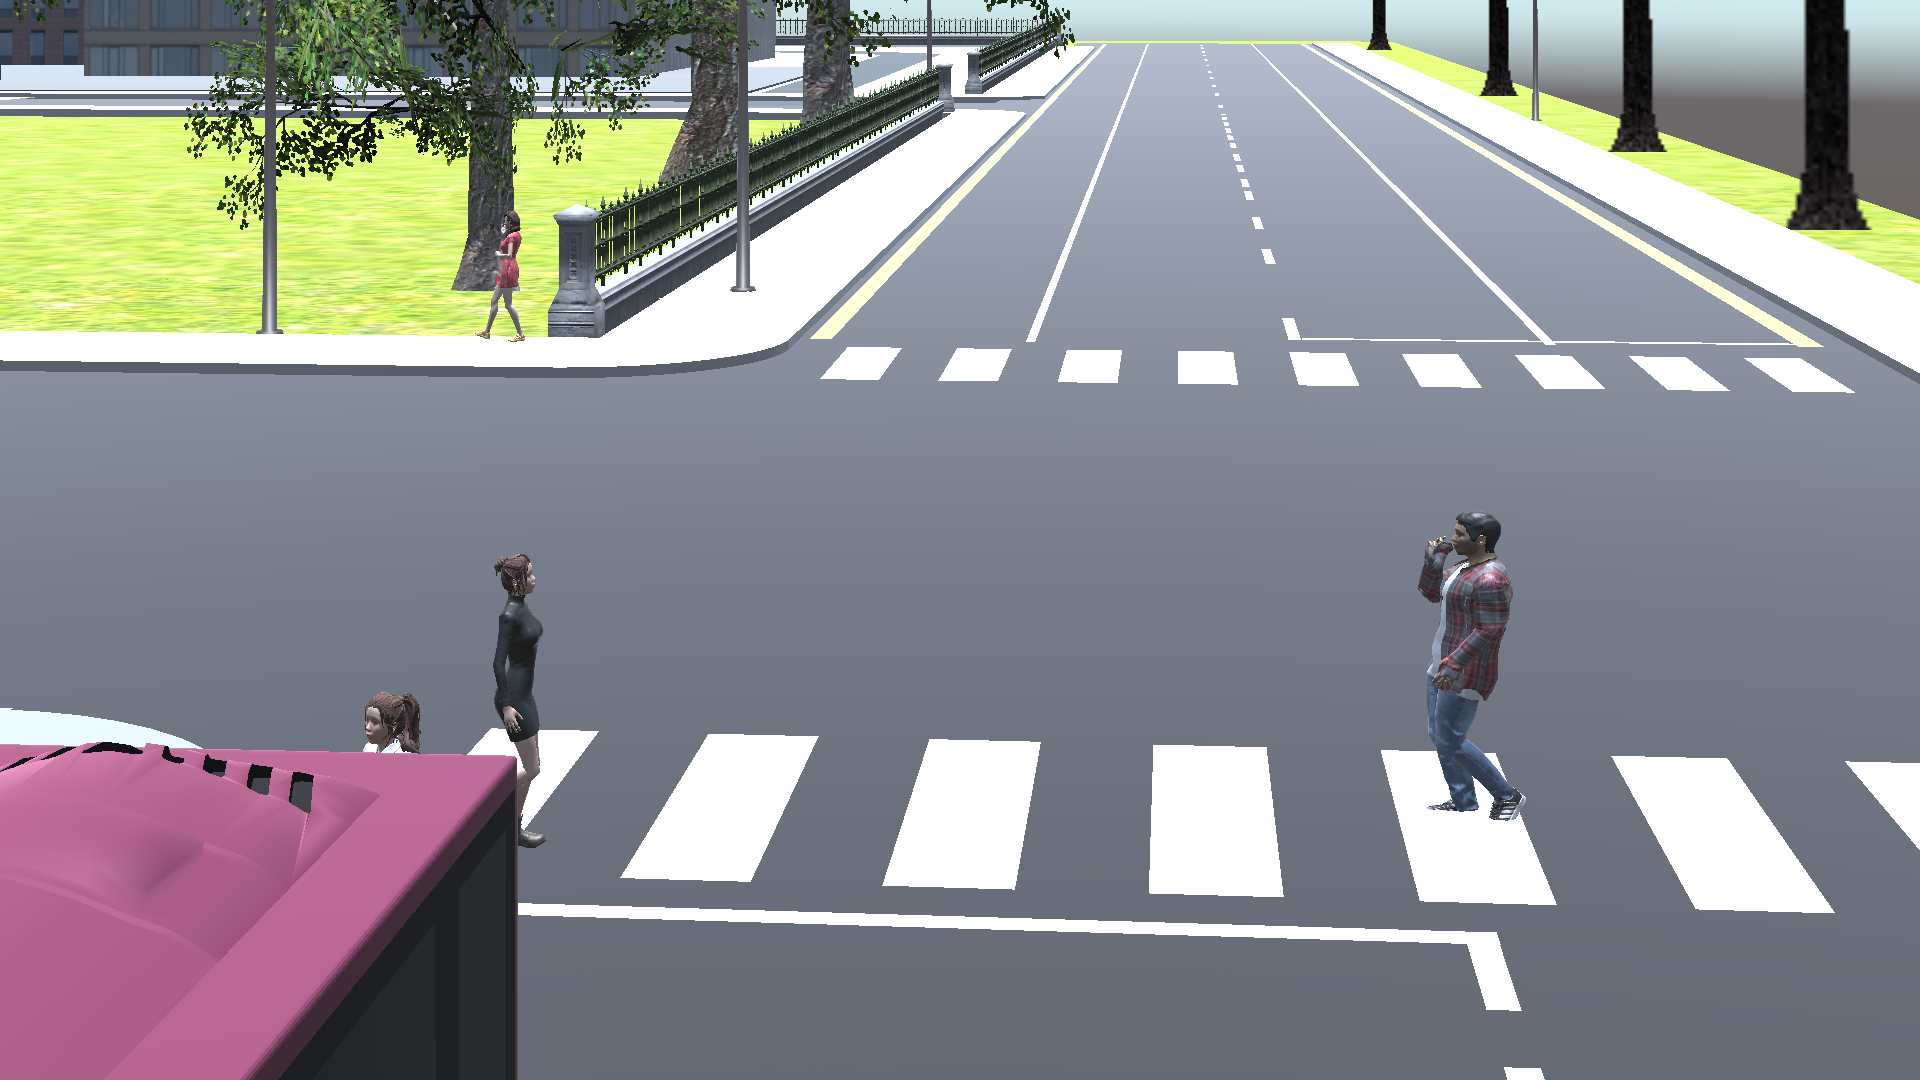pedestrian: (1417, 499, 1533, 834), (491, 555, 558, 846), (479, 213, 524, 346), (359, 686, 421, 754)
